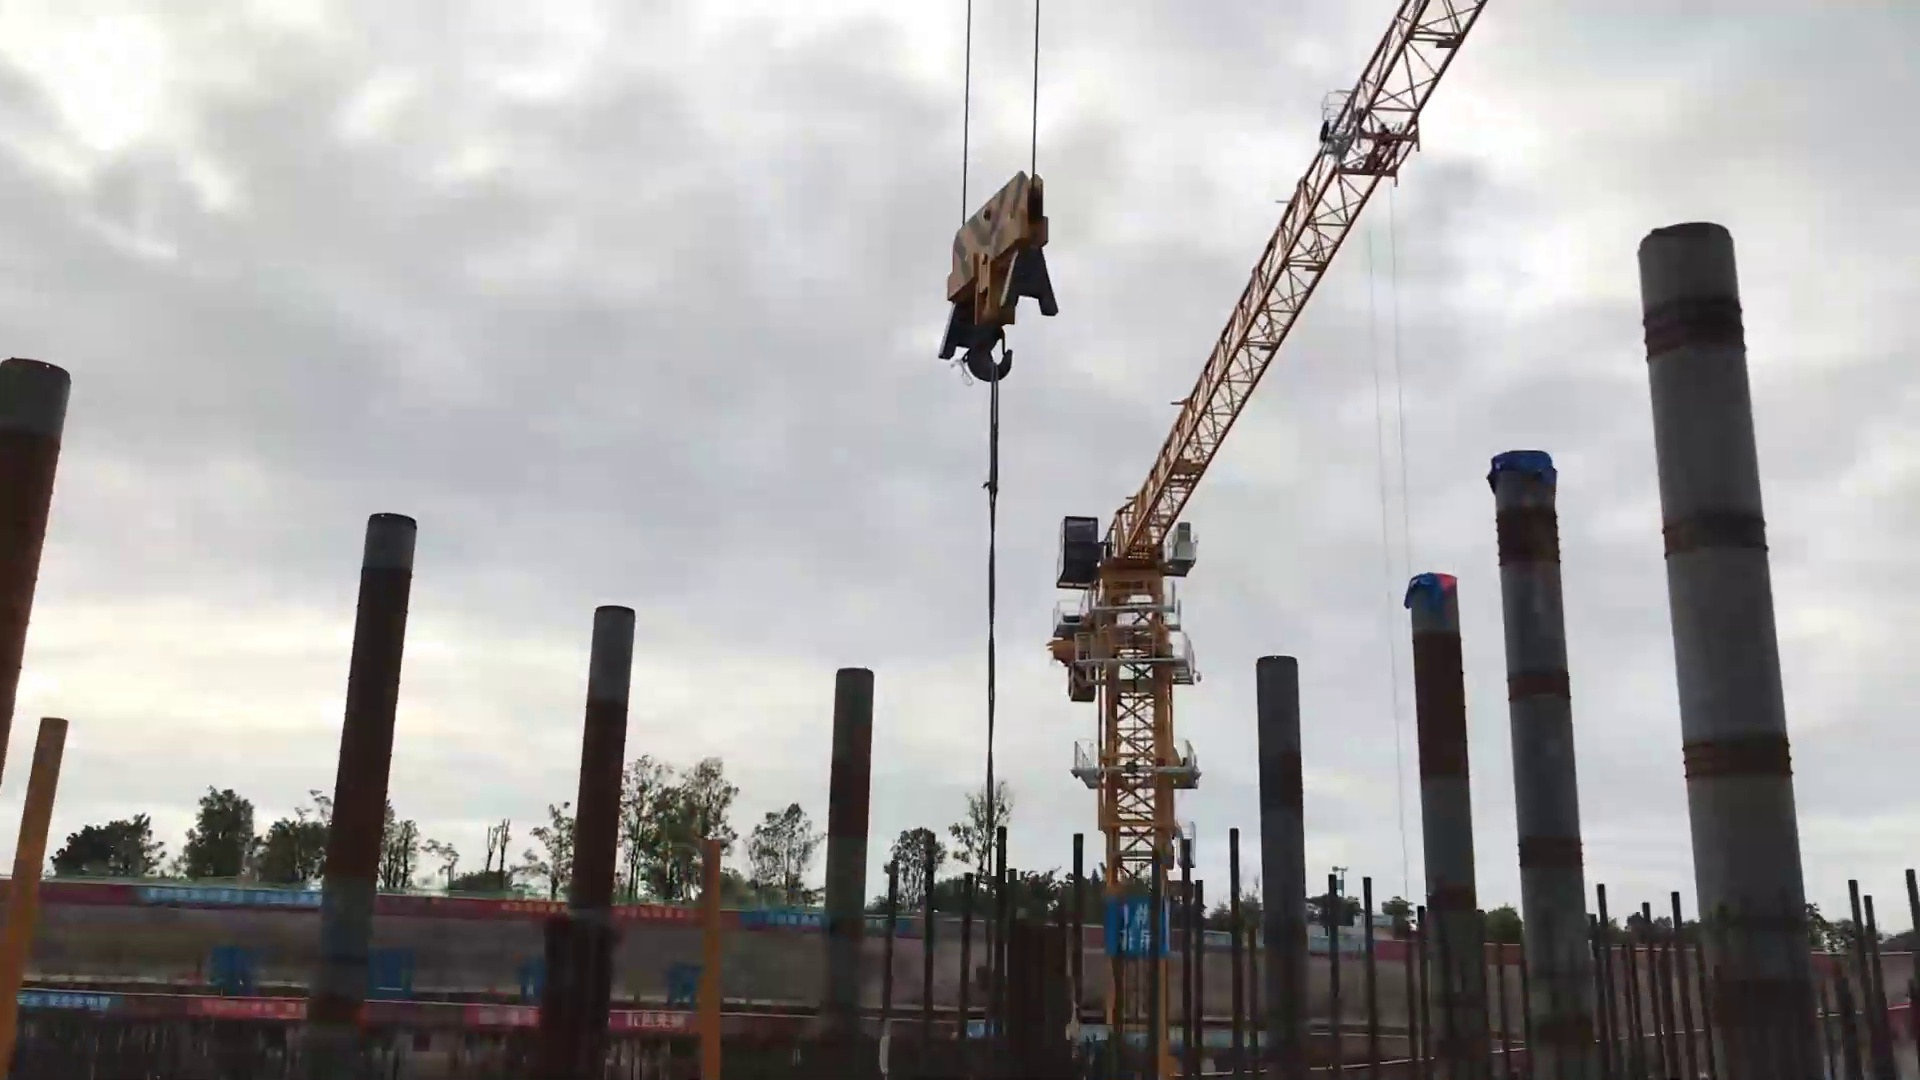hook: (928, 160, 1073, 394)
slogan: (462, 998, 696, 1035), (132, 880, 322, 911), (738, 907, 916, 939), (497, 898, 702, 923), (181, 996, 307, 1019), (16, 992, 128, 1010)
